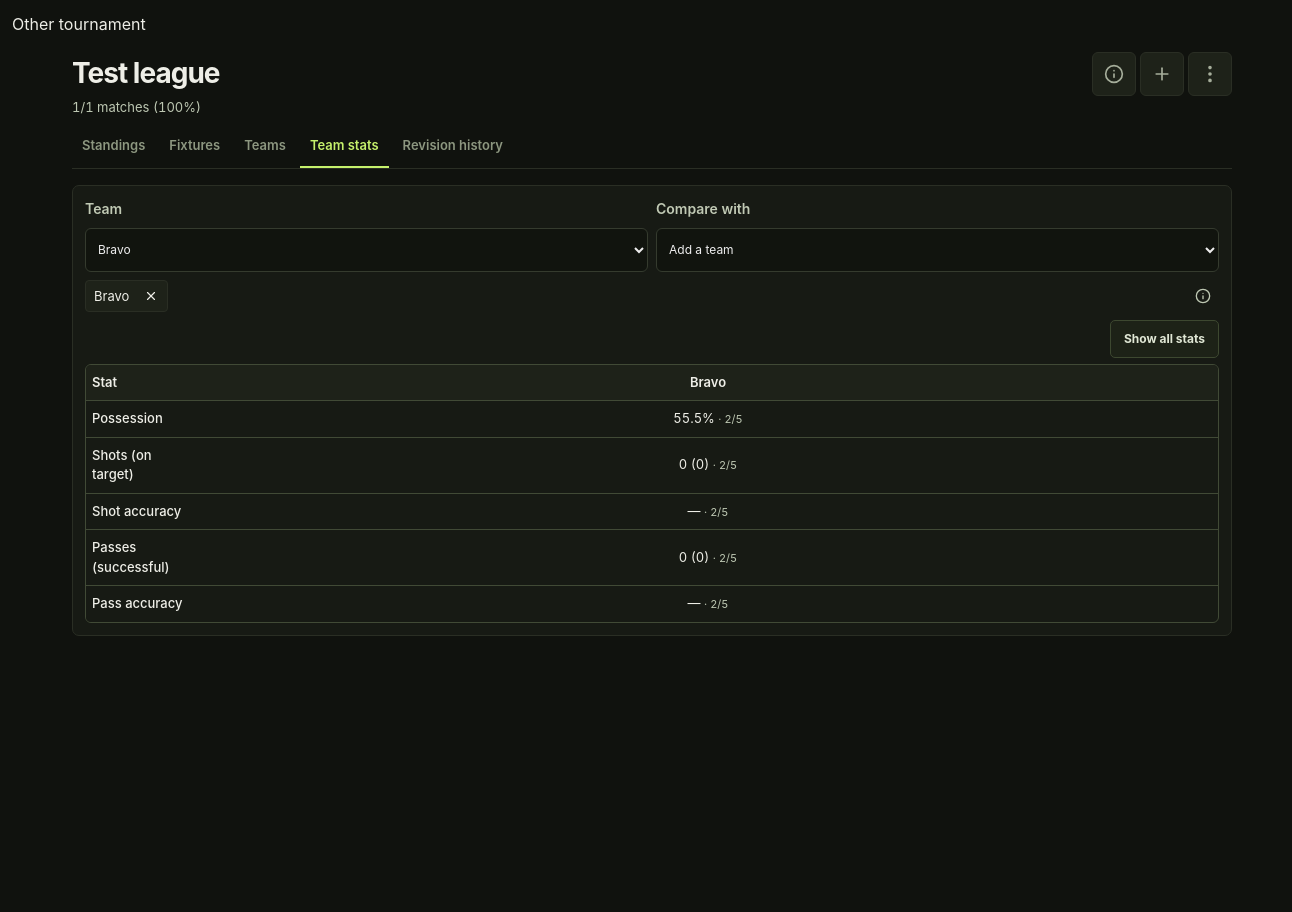
removing every team shows a prompt and teams without recorded stats show missing values
Click the button named "Remove Bravo" at (151, 296), box [135, 281, 167, 311]
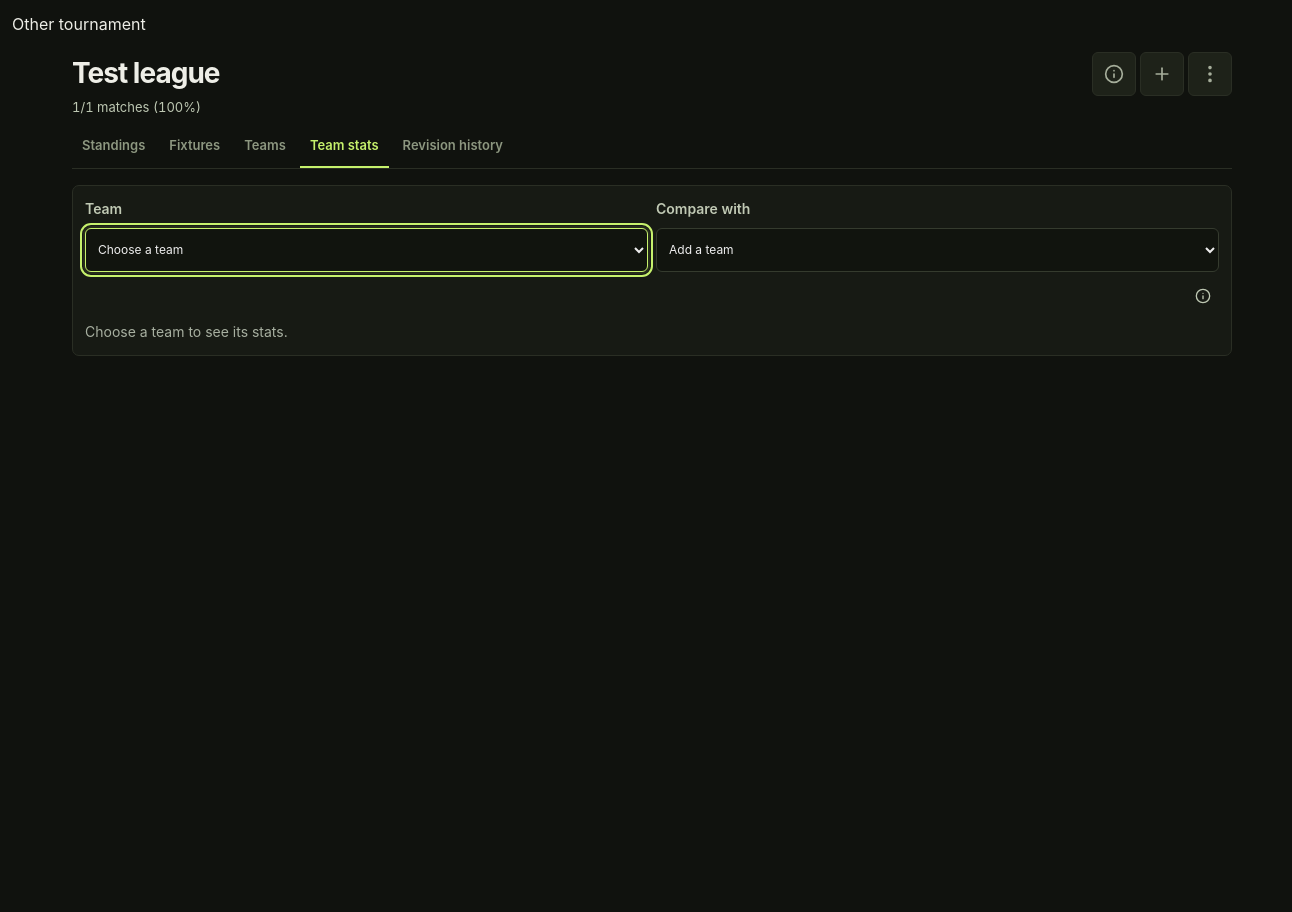
Expected: the text "Choose a team to see its stats." is shown, [85, 323, 288, 340]
Select "Alpha" in the dropdown labelled "Team" at (366, 250), box [85, 228, 648, 272]
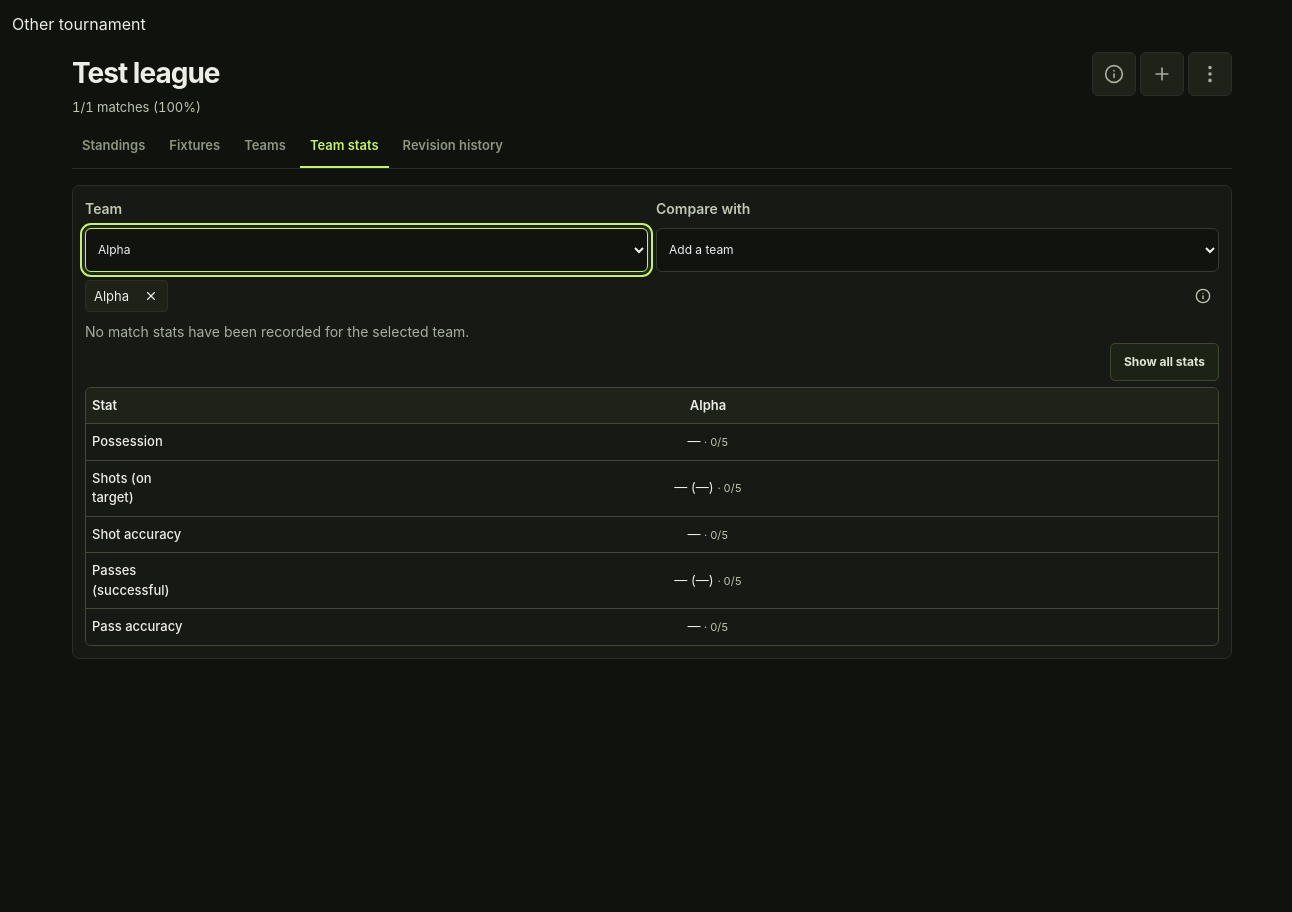
Expected: the text "No match stats have been recorded for the selected team." is shown, [85, 323, 469, 340]
Expected: the row named "Possession — 0 recorded matches / 5 matches played" is shown, [86, 424, 1218, 461]
